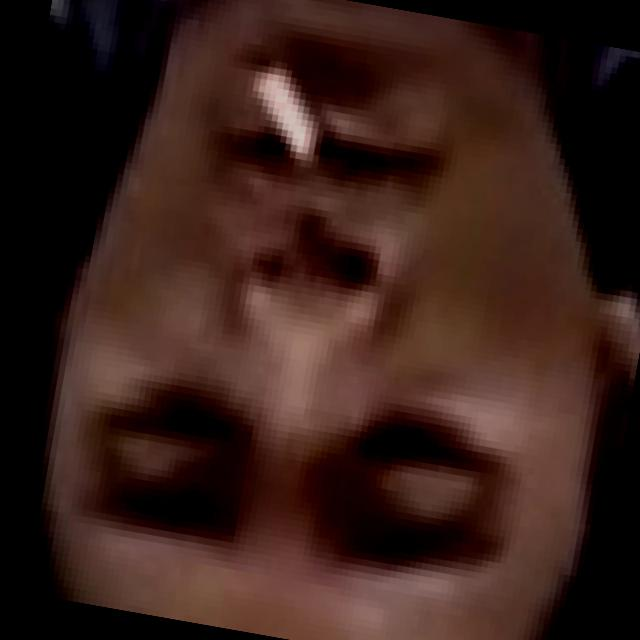smoke: (229, 42, 358, 166)
